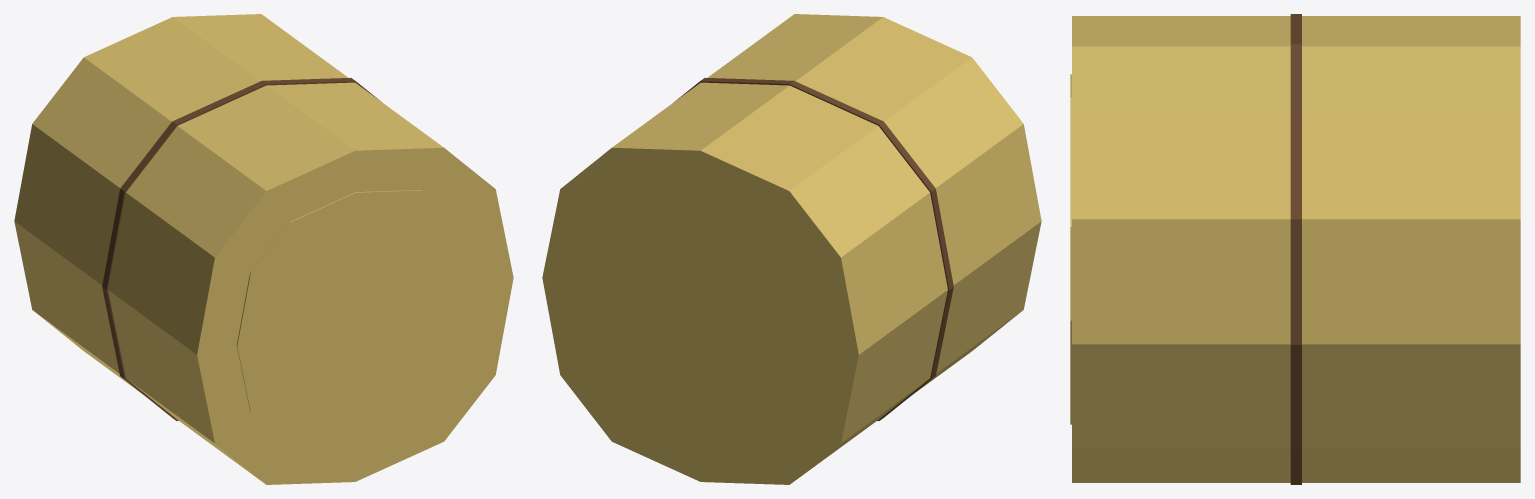
The model's file is GT_HayBale_Round_01.glb.
3 views of the same model, side by side, from view 1: azimuth 30°, elevation 25°; view 2: azimuth 150°, elevation 25°; view 3: azimuth 270°, elevation 25° (orthographic). The views are drawn at different scales.
Visible parts, largest first — view 1: GT_HayBale_Round_01; view 2: GT_HayBale_Round_01; view 3: GT_HayBale_Round_01.
Part boxes in pixels (x1,y1,x2,y2): GT_HayBale_Round_01: (14,14,513,484); GT_HayBale_Round_01: (542,14,1041,484); GT_HayBale_Round_01: (1070,14,1520,484).
Bounding box in the file's own units: 1.21 × 1.21 × 1.21.
1 material, 1 textured.
